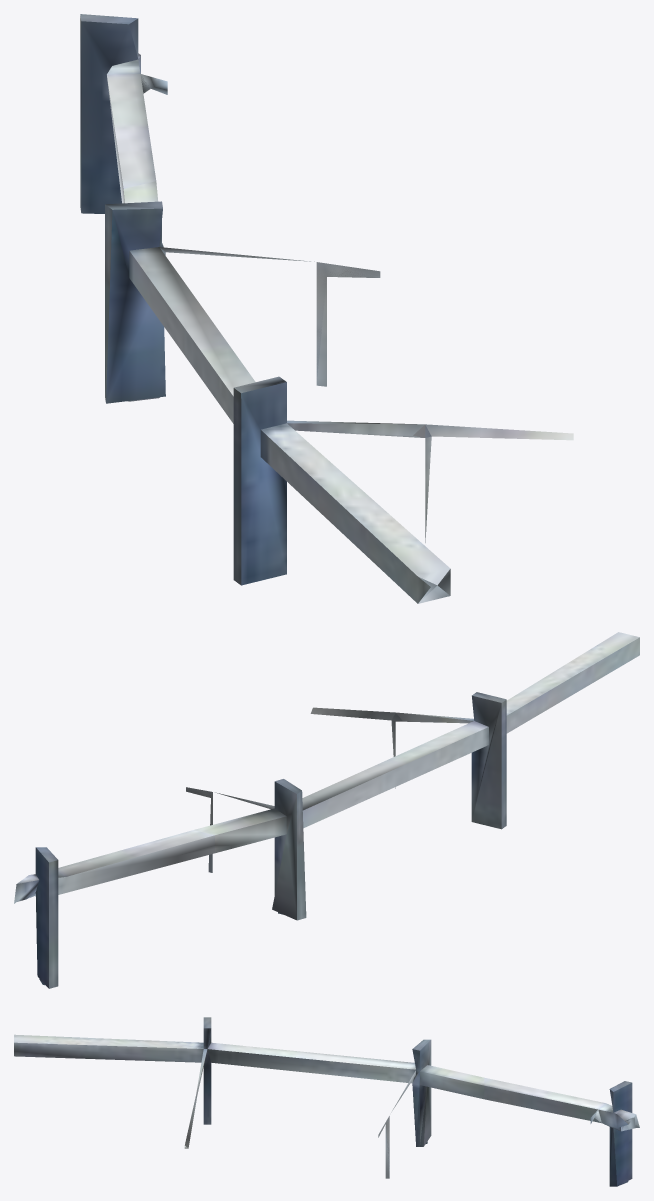
3 renders of one model, top to bottom at view 1: azimuth 30°, elevation 25°; view 2: azimuth 150°, elevation 25°; view 3: azimuth 270°, elevation 25°, orthographic. The views are drawn at different scales.
Visible parts, largest first — view 1: 3043627270437043467_0; view 2: 3043627270437043467_0; view 3: 3043627270437043467_0.
Part boxes in pixels (<box>): 3043627270437043467_0: <box>80,14,573,603</box>; 3043627270437043467_0: <box>14,632,639,988</box>; 3043627270437043467_0: <box>14,1017,639,1186</box>.
Size of the model in its own units: 15.34 by 8.63 by 50.91.
1 material, 1 textured.
